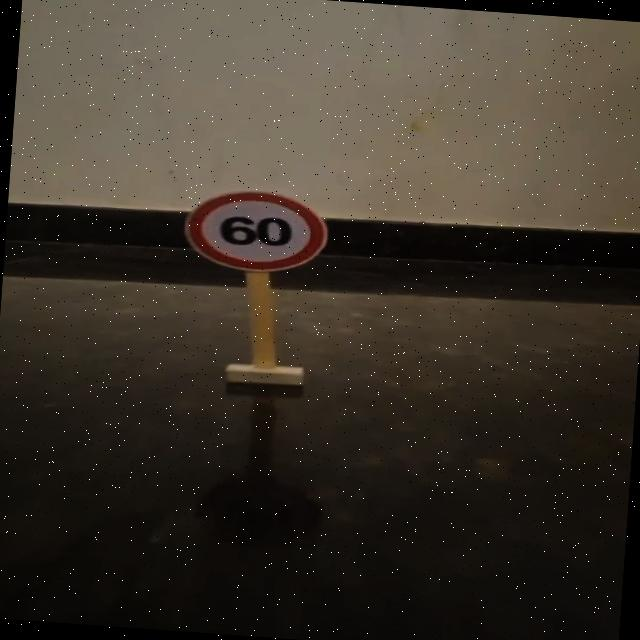Speed60: (166, 177, 340, 283)
